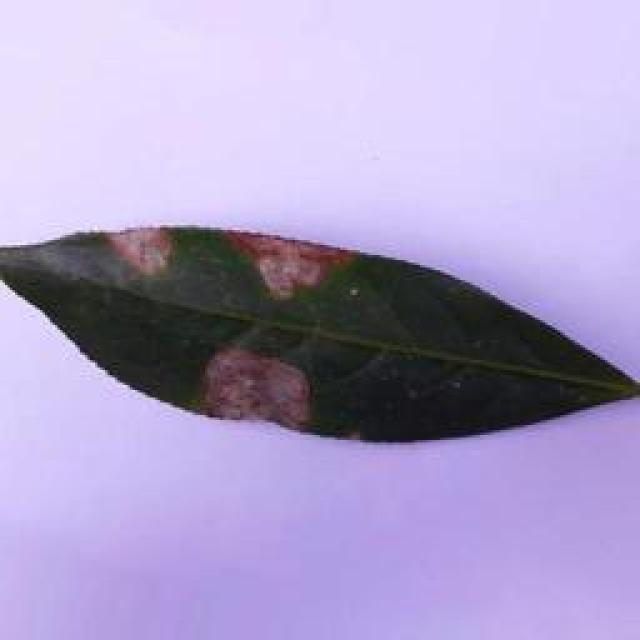Gray Blight: (0, 219, 640, 451)
